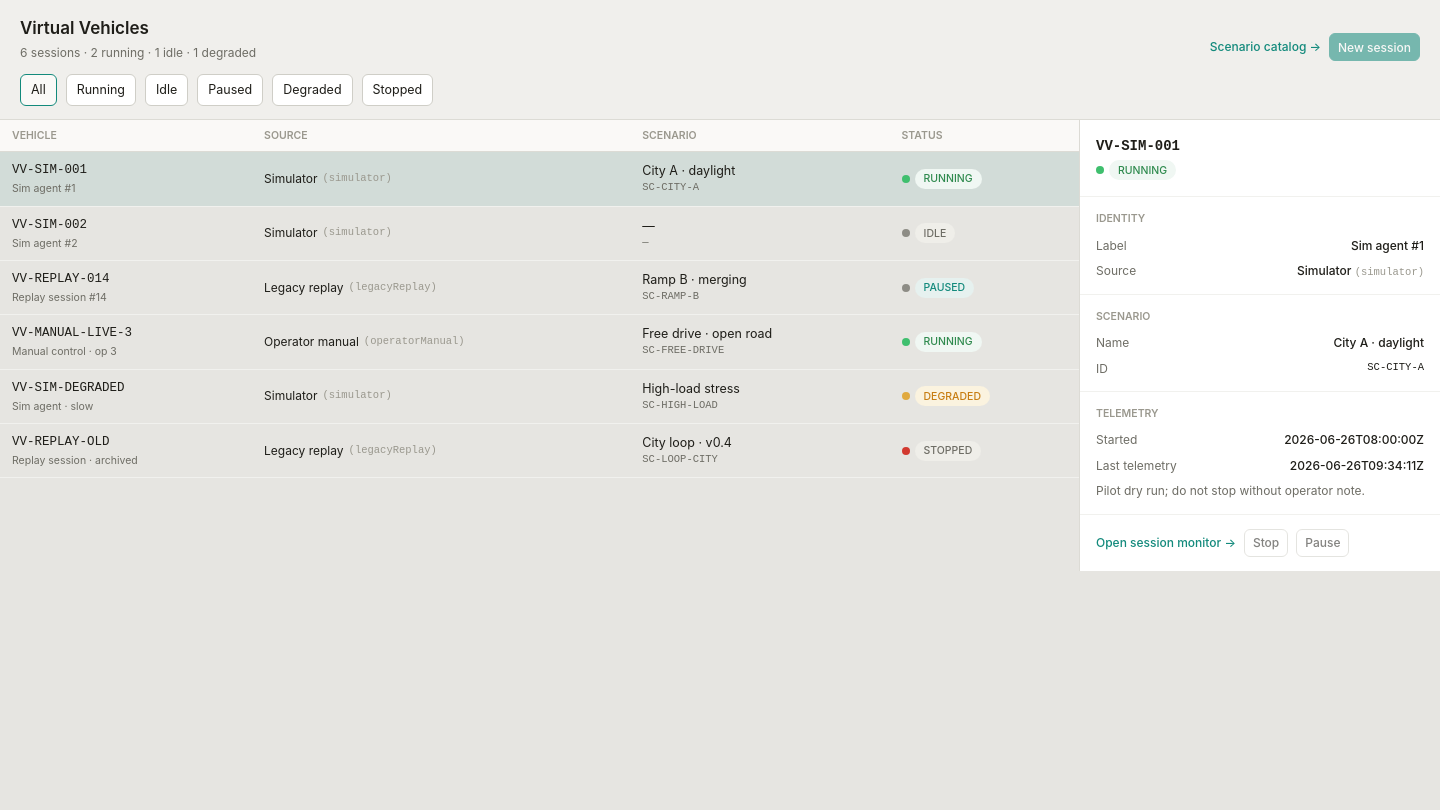
VirtualVehiclesScreen › Running filter narrows to running sessions only
Expected: the button "VV-SIM-001 Sim agent #1" is shown, [12,161,240,197]
Step 1. Click the tab "Running" → (101, 90), box [66,74,136,106]
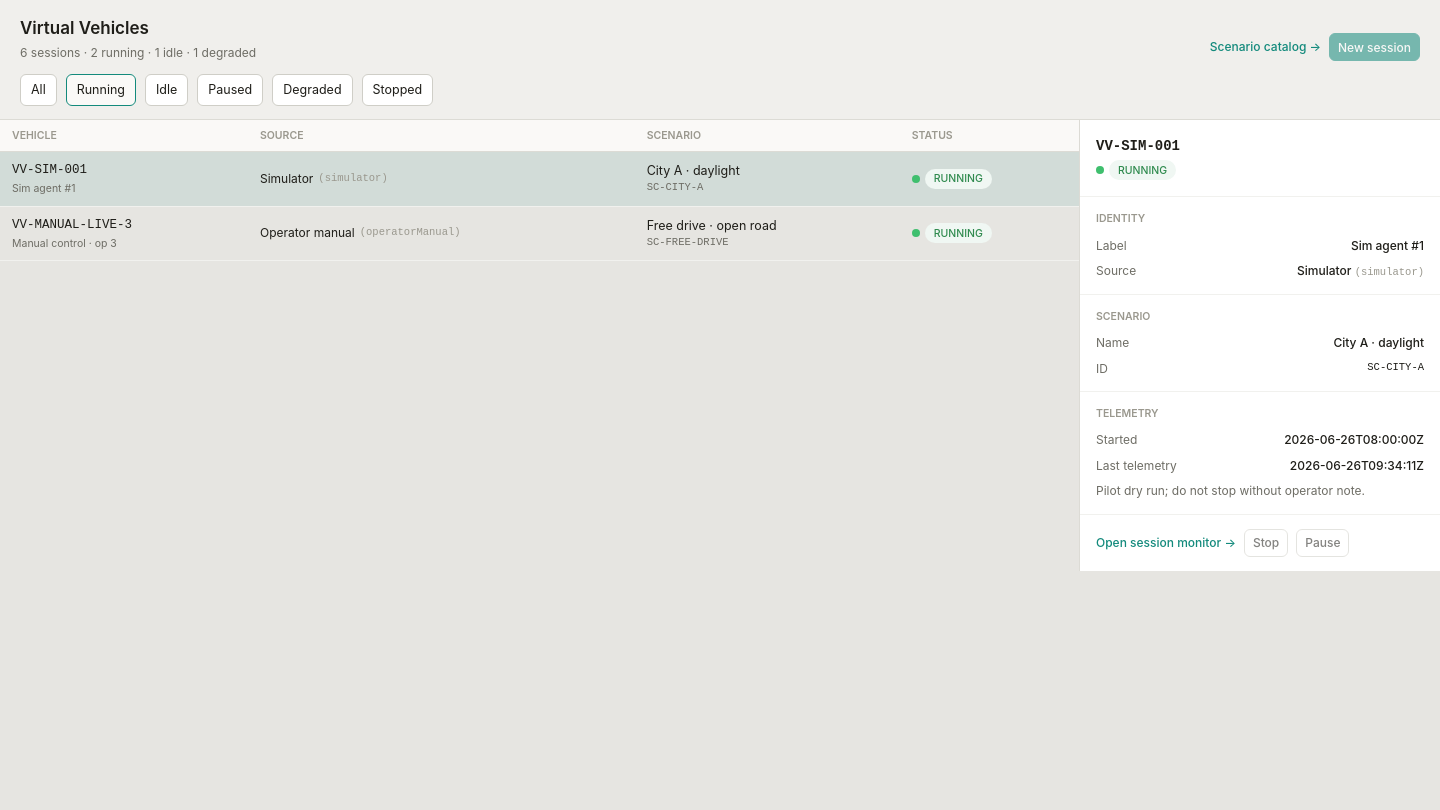
Expected: the button "VV-SIM-001 Sim agent #1" is shown, [12,161,236,197]
Expected: the button "VV-SIM-002" is gone
